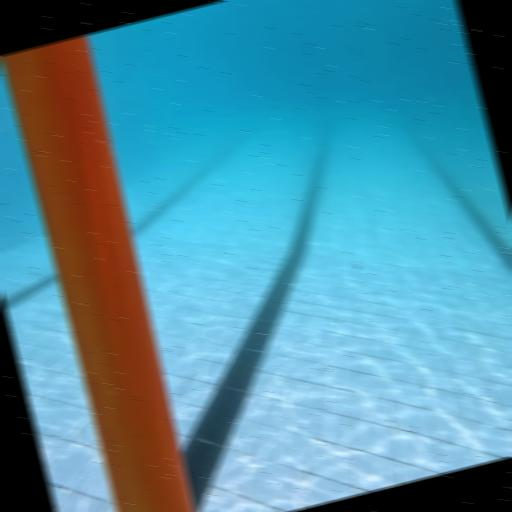pole_gate: (0, 34, 211, 512)
